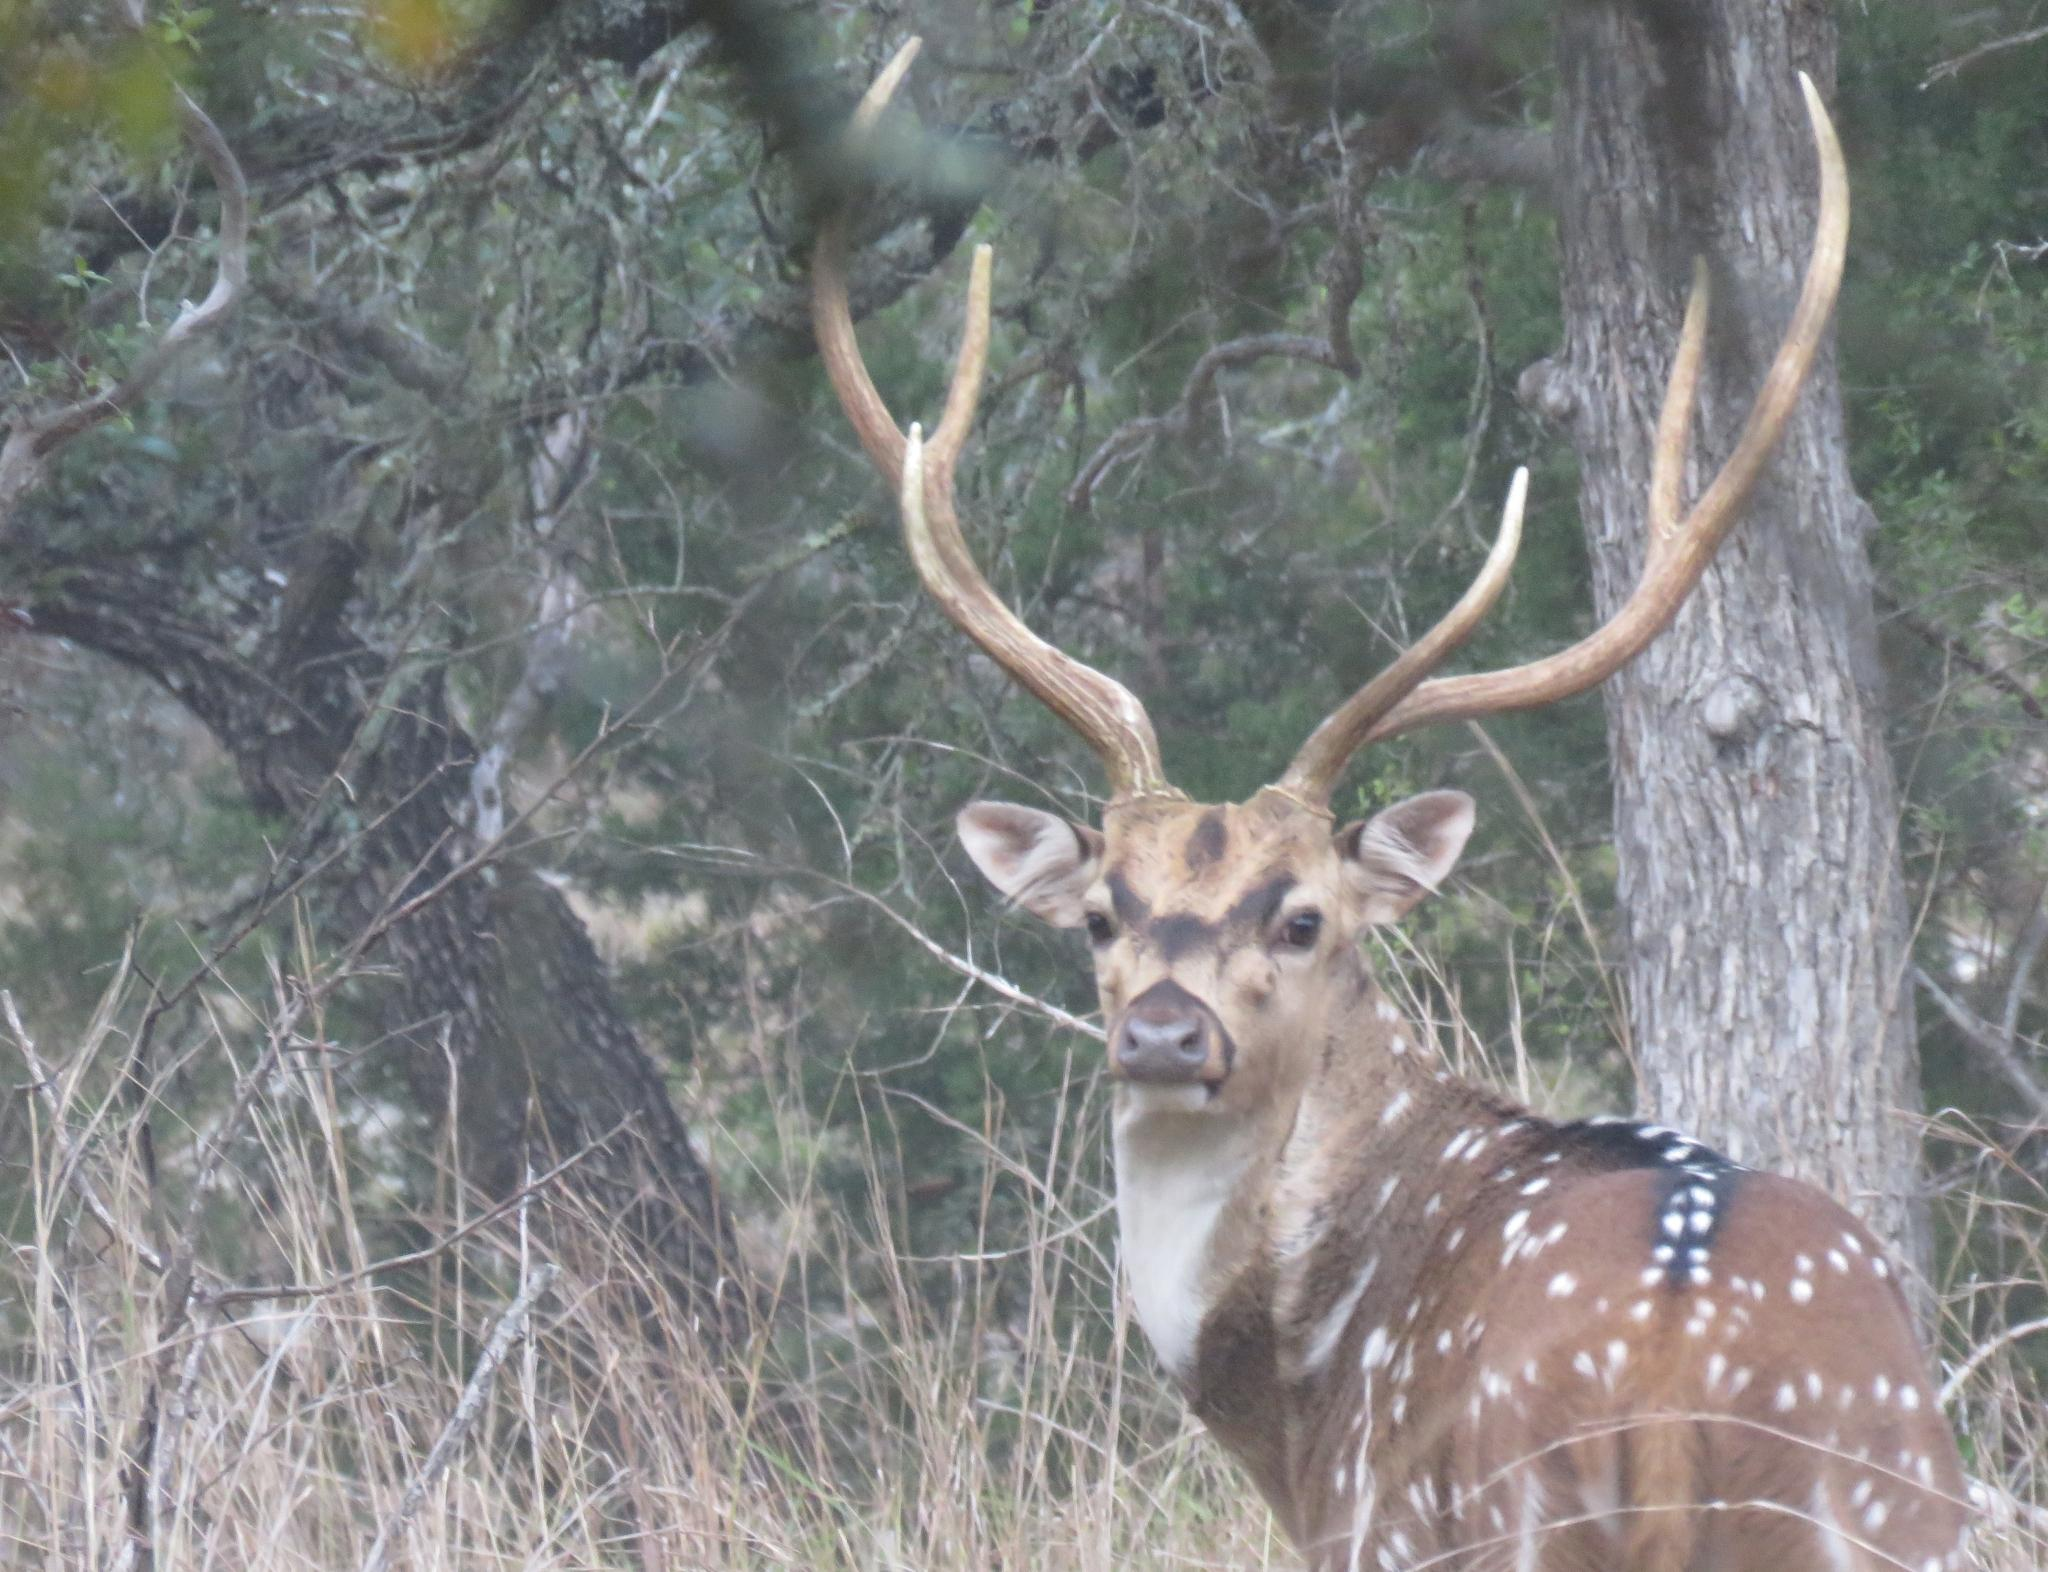Deer: (813, 74, 1964, 1570)
